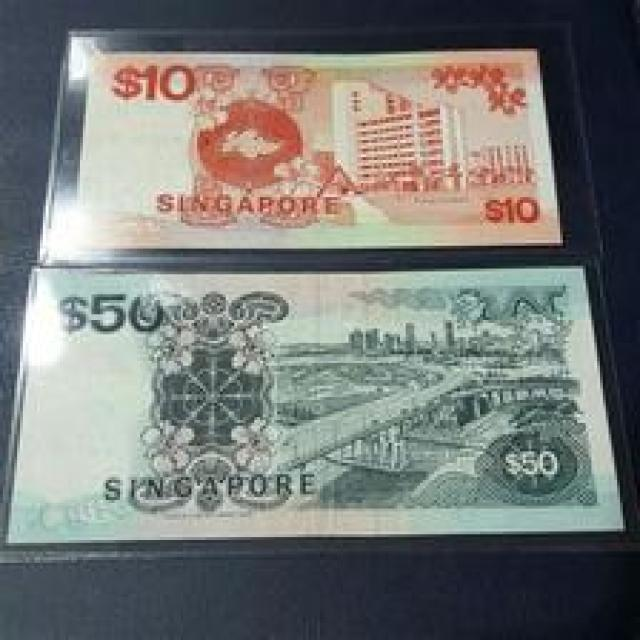banknote: (0, 255, 637, 554), (34, 26, 563, 263), (41, 287, 176, 342), (108, 60, 204, 112), (488, 436, 576, 490), (475, 185, 543, 237)
